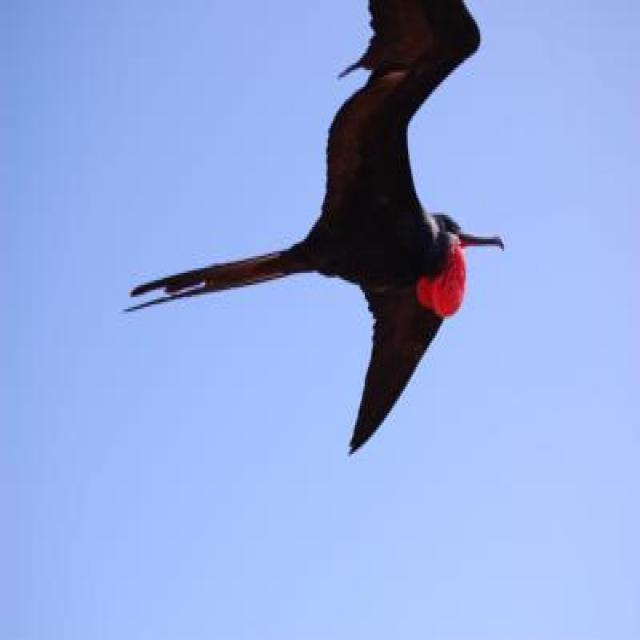birds: (118, 0, 512, 462)
